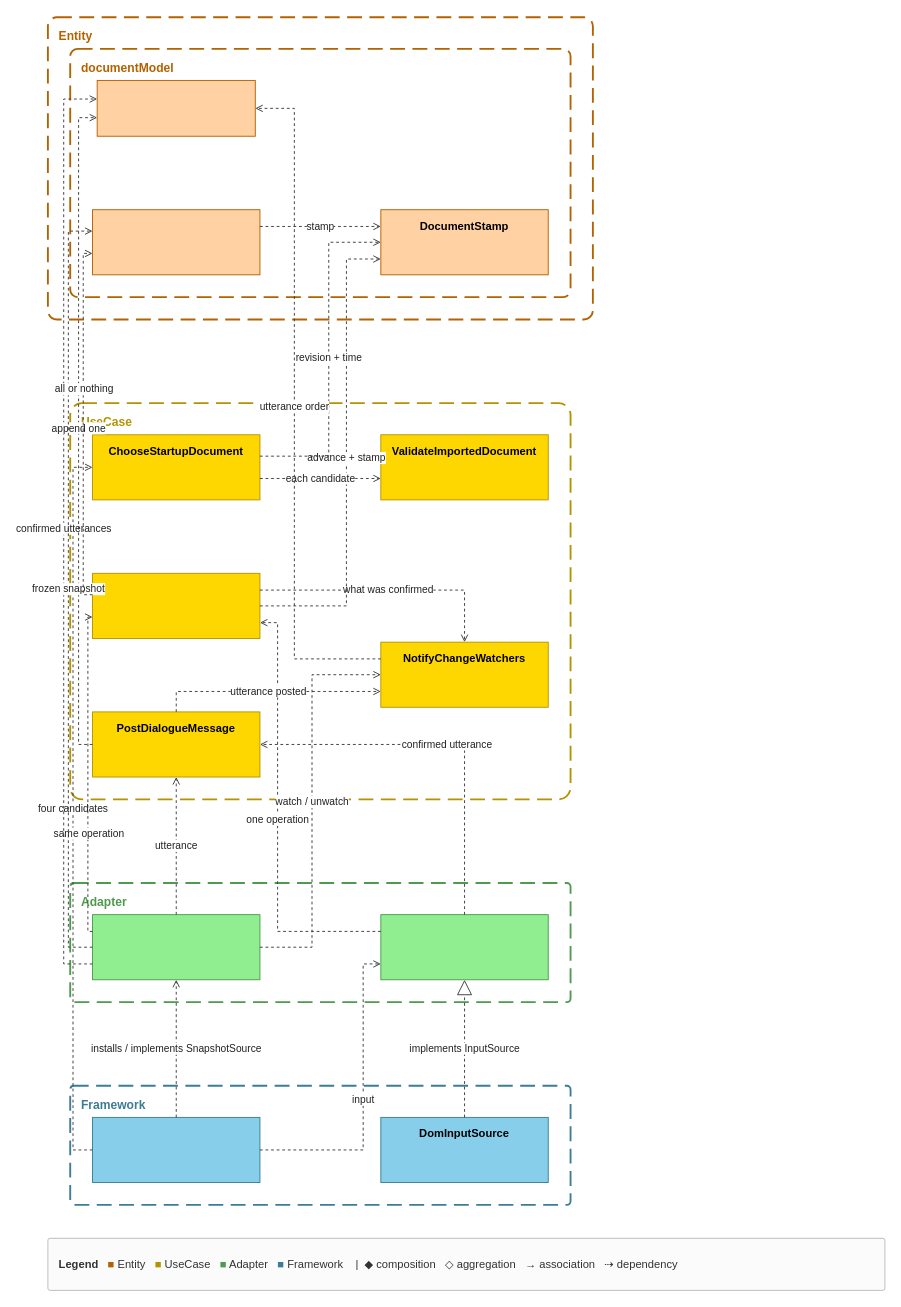
The diagram is 901 pixels wide and 1307 high, and some of its shapes have lost their labels. The shapes that lost their labels are listed below. From the top down, each one's centre as x and y in pixels, then its label:
point (175, 108): DialogueLog
point (176, 242): Document
point (176, 605): ApplyDocumentChange
point (176, 947): AgentApiEndpoint
point (464, 947): InputCommandTranslator
point (176, 1149): SingleHtmlShell
